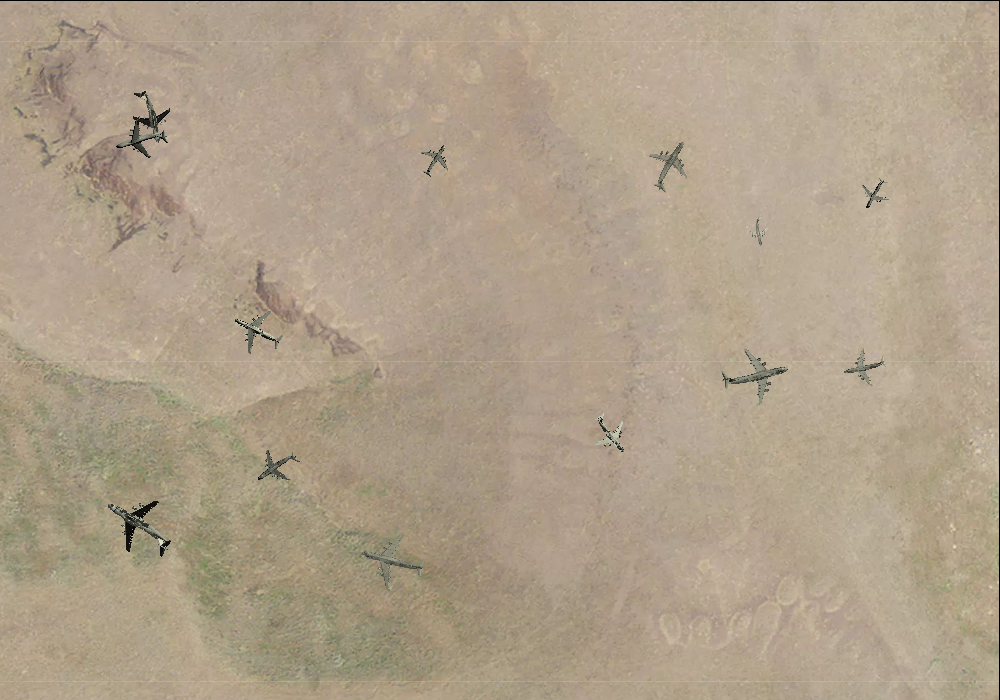plane: (87, 477, 188, 576), (715, 335, 795, 413), (353, 523, 432, 598), (635, 129, 706, 201), (223, 298, 291, 364), (109, 110, 173, 171), (580, 403, 641, 464), (246, 437, 307, 498), (120, 84, 178, 148), (839, 342, 890, 391), (411, 135, 459, 184), (853, 171, 898, 216), (744, 214, 775, 247)
